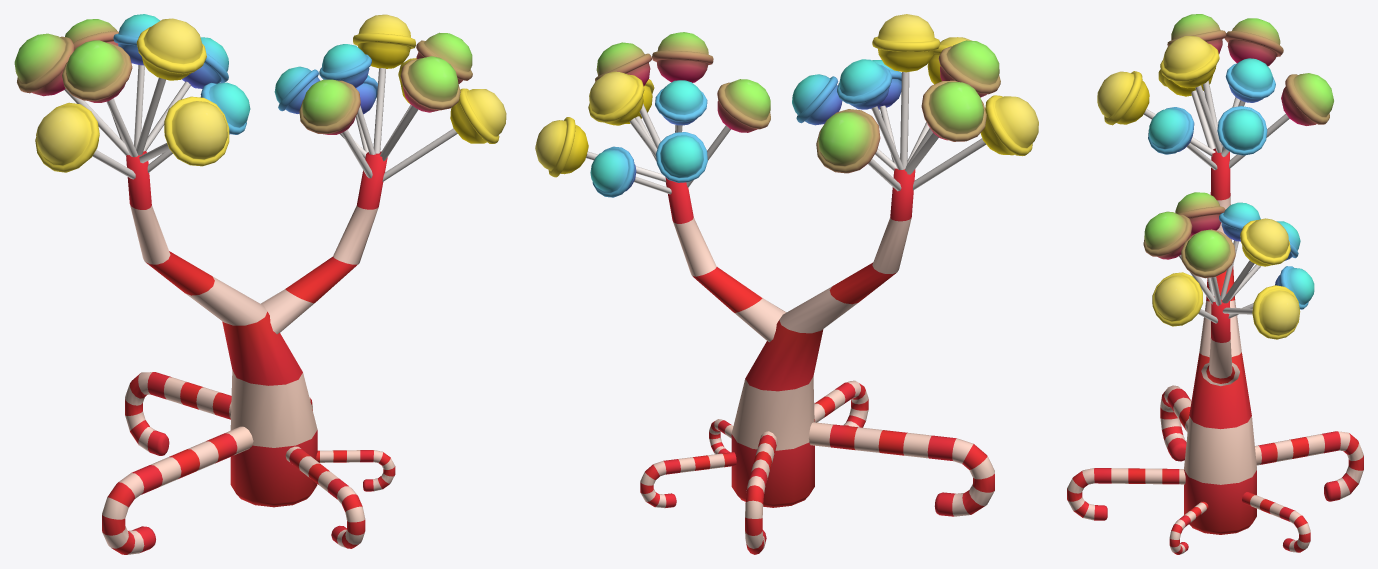
Rendered from cw_tree_18.fbx.
3 renders of one model, left to right at view 1: azimuth 30°, elevation 25°; view 2: azimuth 150°, elevation 25°; view 3: azimuth 270°, elevation 25°, orthographic. The views are drawn at different scales.
Parts seen in each view (by area): view 1: cw_t_18; view 2: cw_t_18; view 3: cw_t_18.
Boxes of the visible parts, box(x1,y1,x2,y2) form: cw_t_18: box(14, 14, 506, 554); cw_t_18: box(535, 14, 1038, 554); cw_t_18: box(1067, 14, 1363, 554).
Size of the model in its own units: 179 by 190 by 117.
